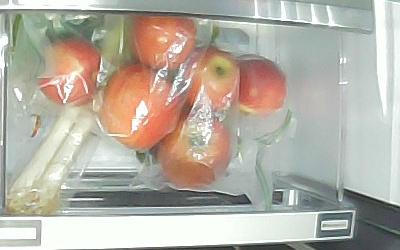apple_vinyl: (98, 61, 185, 153), (158, 111, 233, 187), (37, 37, 99, 105), (181, 48, 239, 114), (130, 15, 197, 70), (235, 55, 287, 115)
